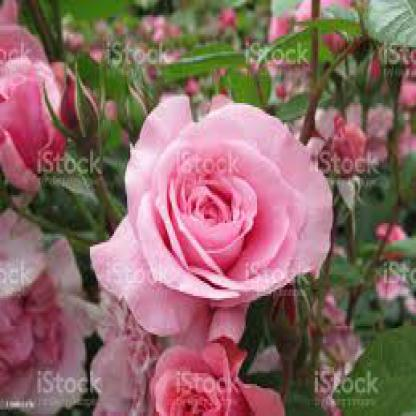Rose-Mawar: (101, 83, 337, 334), (1, 33, 80, 415), (139, 335, 297, 415)
